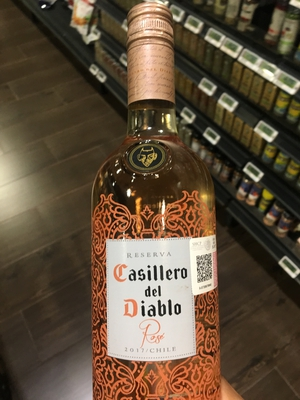casillero del diablo rose: (84, 20, 222, 400)
